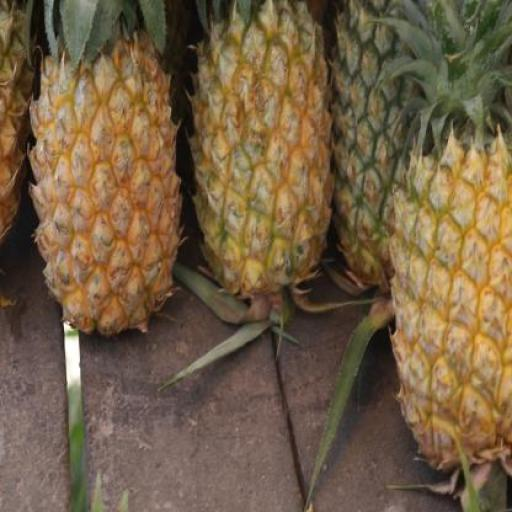------------------------------: (190, 0, 336, 284)
Pineapple - v8 v1: (30, 31, 180, 332), (391, 138, 512, 458)
